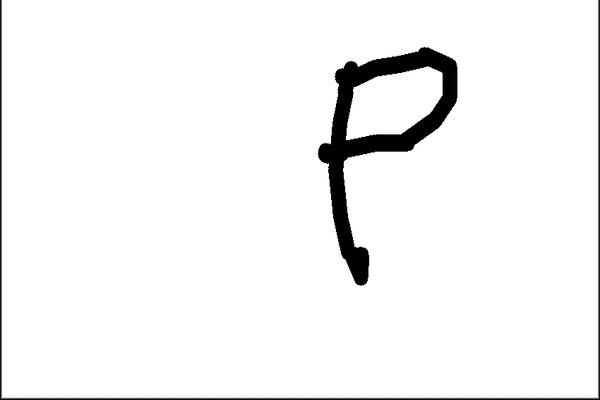P: (308, 38, 473, 292)
